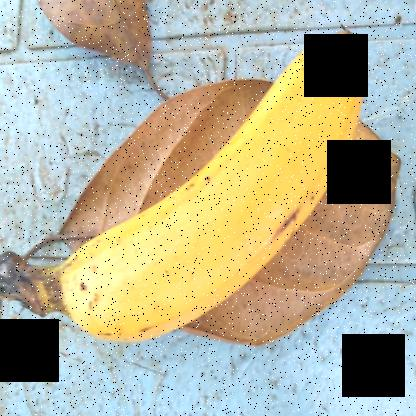freshripe: (53, 26, 380, 358)
